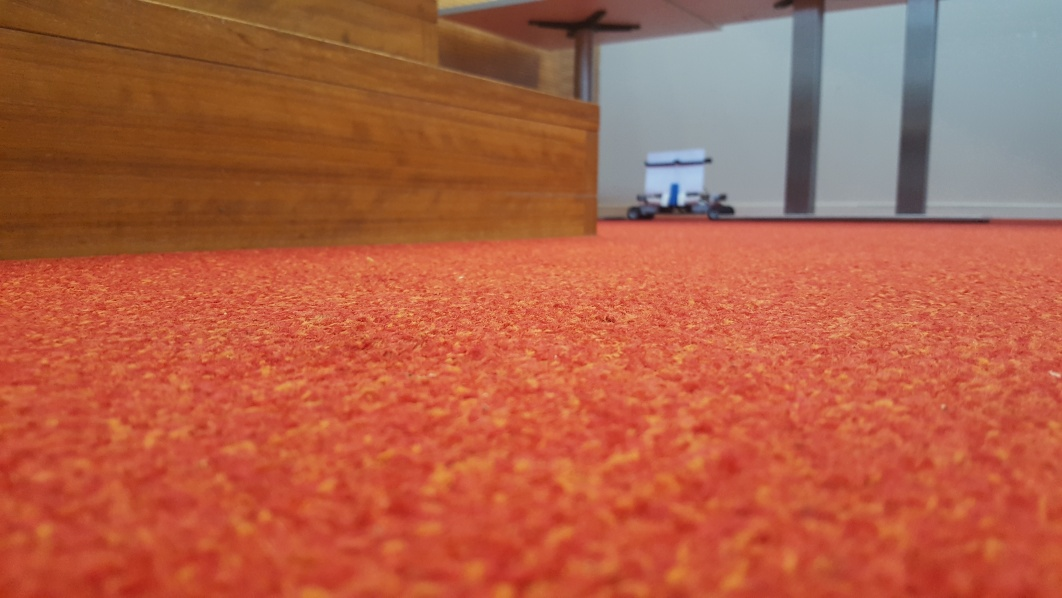car: (623, 149, 734, 219)
